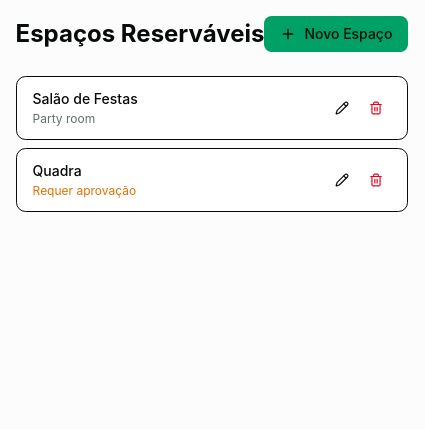
Test case: ReservableSpacesPage › shows edit form when pencil button is clicked
Click the button with class "lucide-pencil". click: (342, 108)
box: [327,92,357,124]
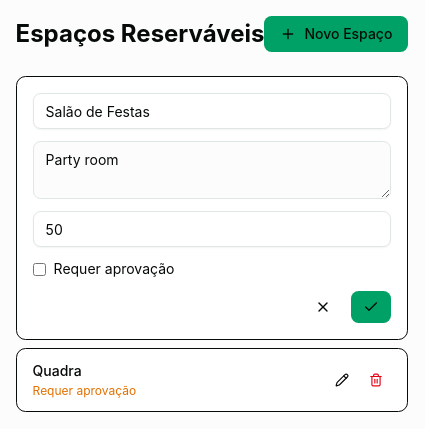
Check: the field showing "Salão de Festas" is shown, box [33,93,391,129]
